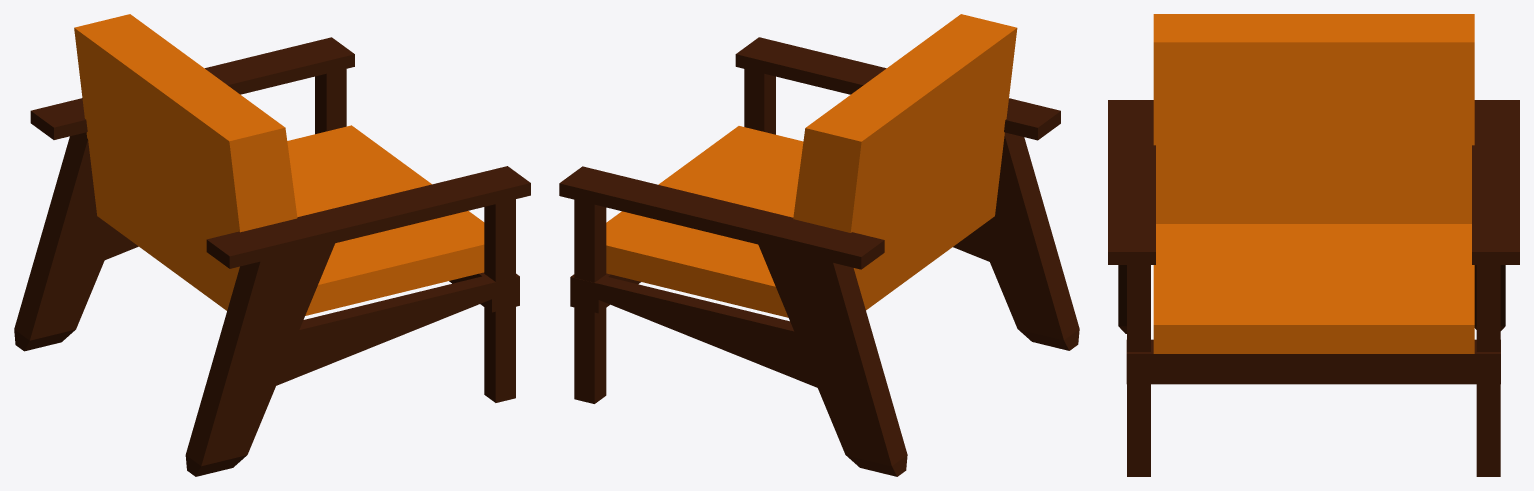
The model's file is Chair 1.fbx.
3 renders of one model, left to right at view 1: azimuth 30°, elevation 25°; view 2: azimuth 150°, elevation 25°; view 3: azimuth 270°, elevation 25°, orthographic. The views are drawn at different scales.
Visible parts, largest first — view 1: Cube.014, Cube.013; view 2: Cube.014, Cube.013; view 3: Cube.013, Cube.014.
Boxes of the visible parts, <box> form: Cube.014: <box>14,37,530,476</box>; Cube.013: <box>74,14,484,315</box>; Cube.014: <box>559,37,1079,476</box>; Cube.013: <box>606,14,1017,317</box>; Cube.013: <box>1153,14,1474,353</box>; Cube.014: <box>1108,100,1519,476</box>.
Size of the model in its own units: 81.36 by 74.8 by 85.9.
